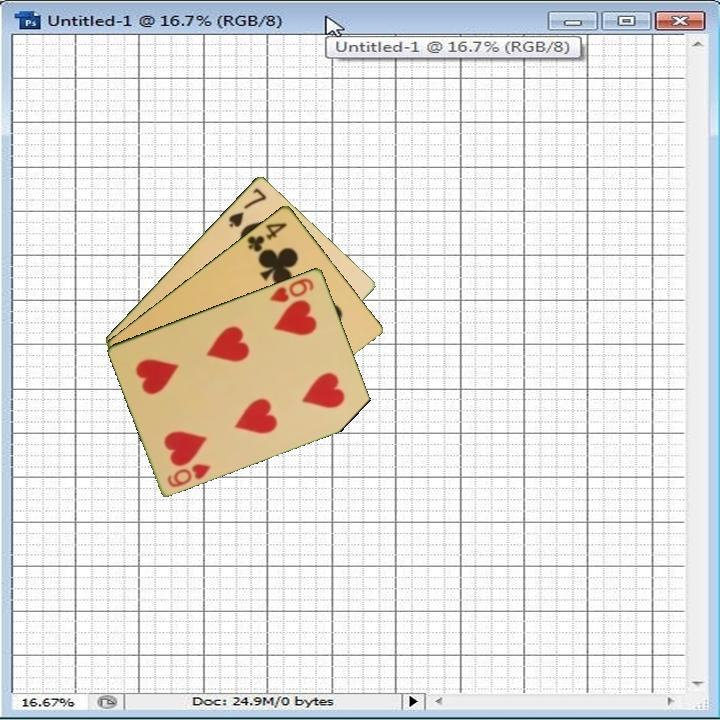4c: (244, 219, 290, 255)
6h: (266, 274, 317, 305), (164, 459, 213, 490)
7s: (225, 184, 269, 230)
